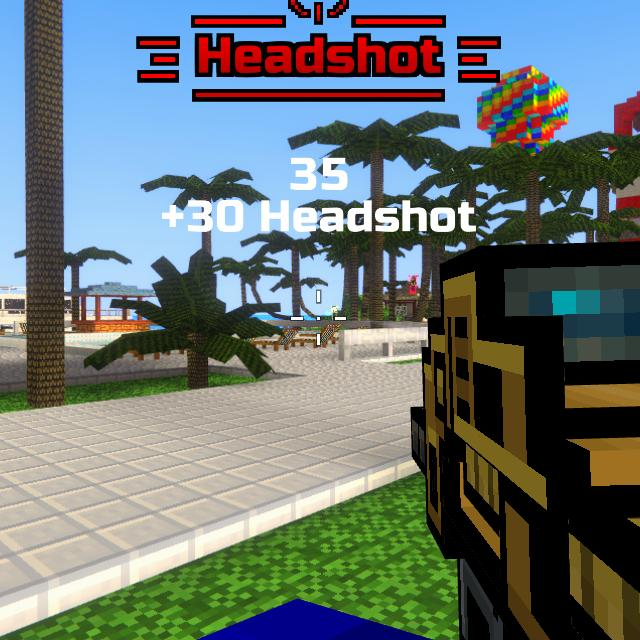Enemy: (411, 278, 418, 292)
